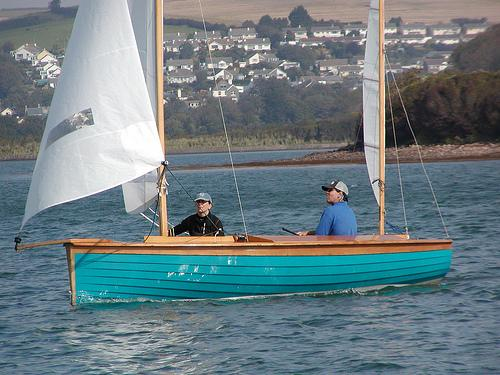Ship: (14, 1, 451, 303)
